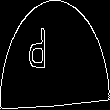P_S: (45, 29, 65, 81)
